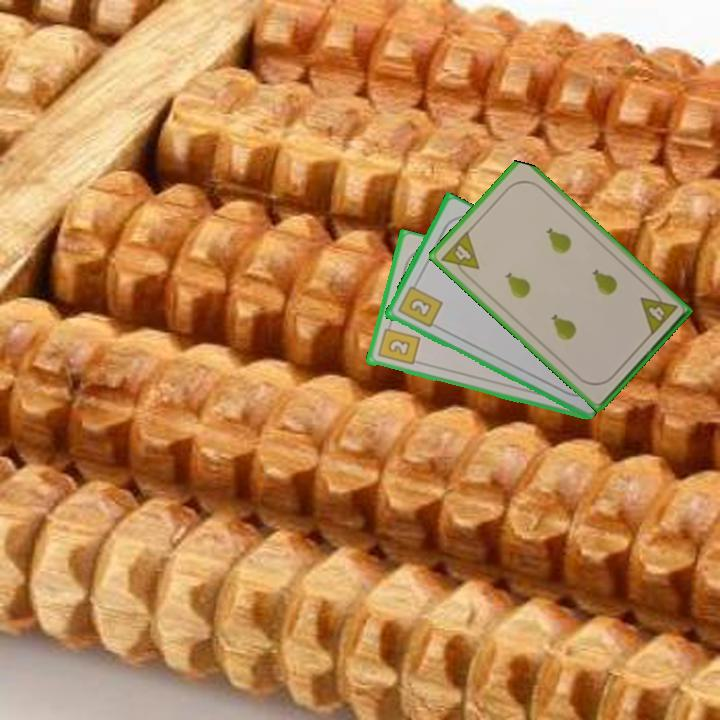2b: (394, 278, 445, 331), (374, 319, 422, 368)
4p: (437, 227, 482, 282), (636, 285, 680, 338)
